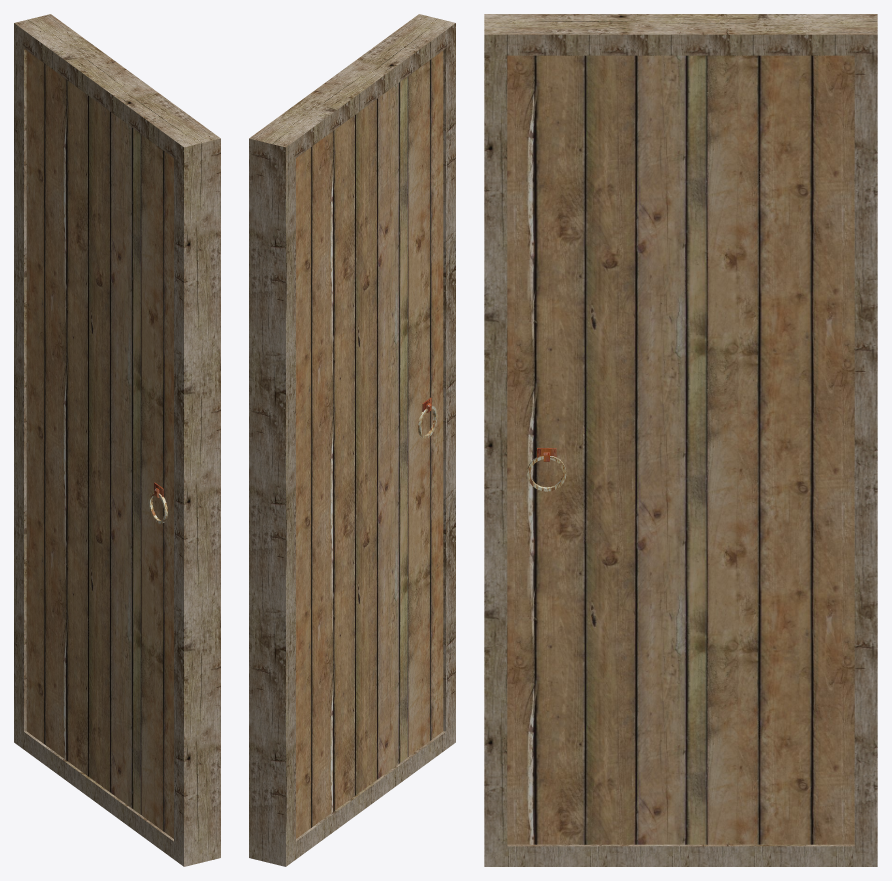
The model's file is Portaa.dae.
The picture shows the model from 3 angles, left to right: view 1: azimuth 30°, elevation 25°; view 2: azimuth 150°, elevation 25°; view 3: azimuth 270°, elevation 25°; orthographic projection. The views are drawn at different scales.
Parts seen in each view (by area): view 1: Componente_1 (×3); view 2: Componente_1 (×3); view 3: Componente_1 (×3).
Part boxes in pixels (<box>): Componente_1 (×3): <box>14,14,220,866</box>; Componente_1 (×3): <box>249,14,455,866</box>; Componente_1 (×3): <box>484,14,877,866</box>.
Bounding box in the file's own units: 6.3 × 47.24 × 110.
Materials: 5 (4 with a texture image).
